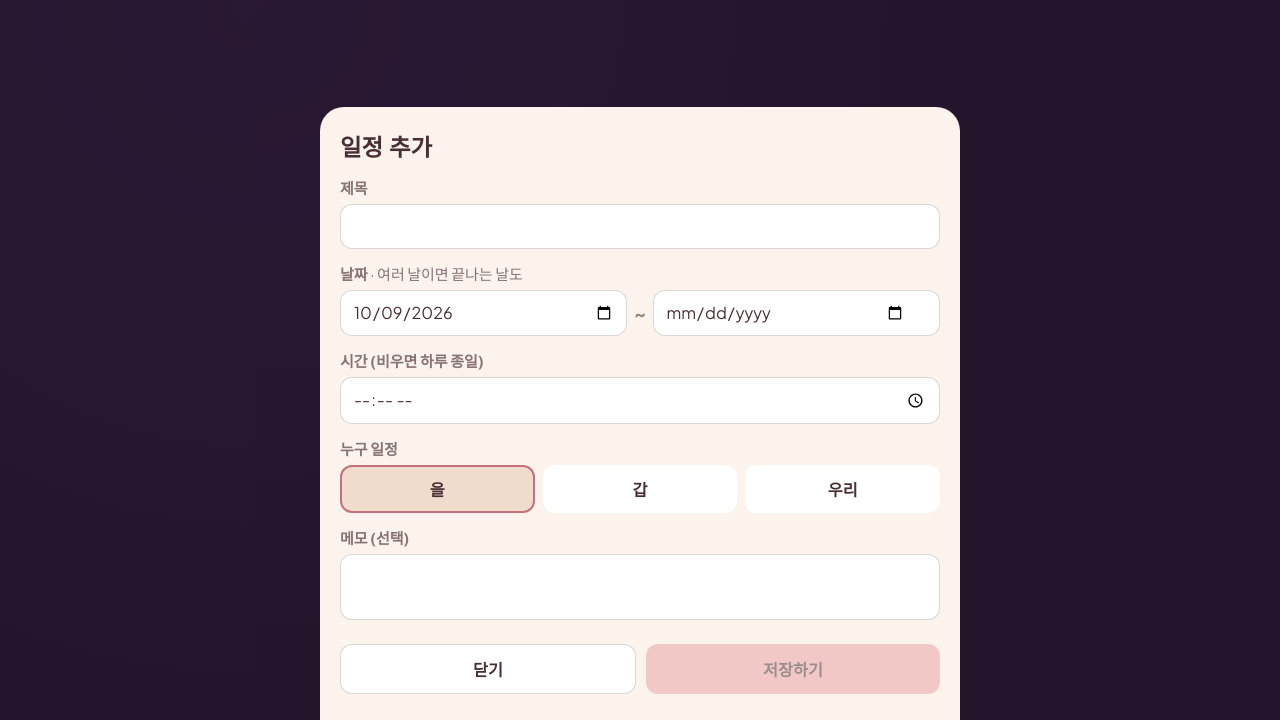
Test case: EventFormModal › stays open with the message and the typed text when saving fails
Type "약속" into the field labelled "제목". click: (640, 226)
box: 340,204 -> 940,249
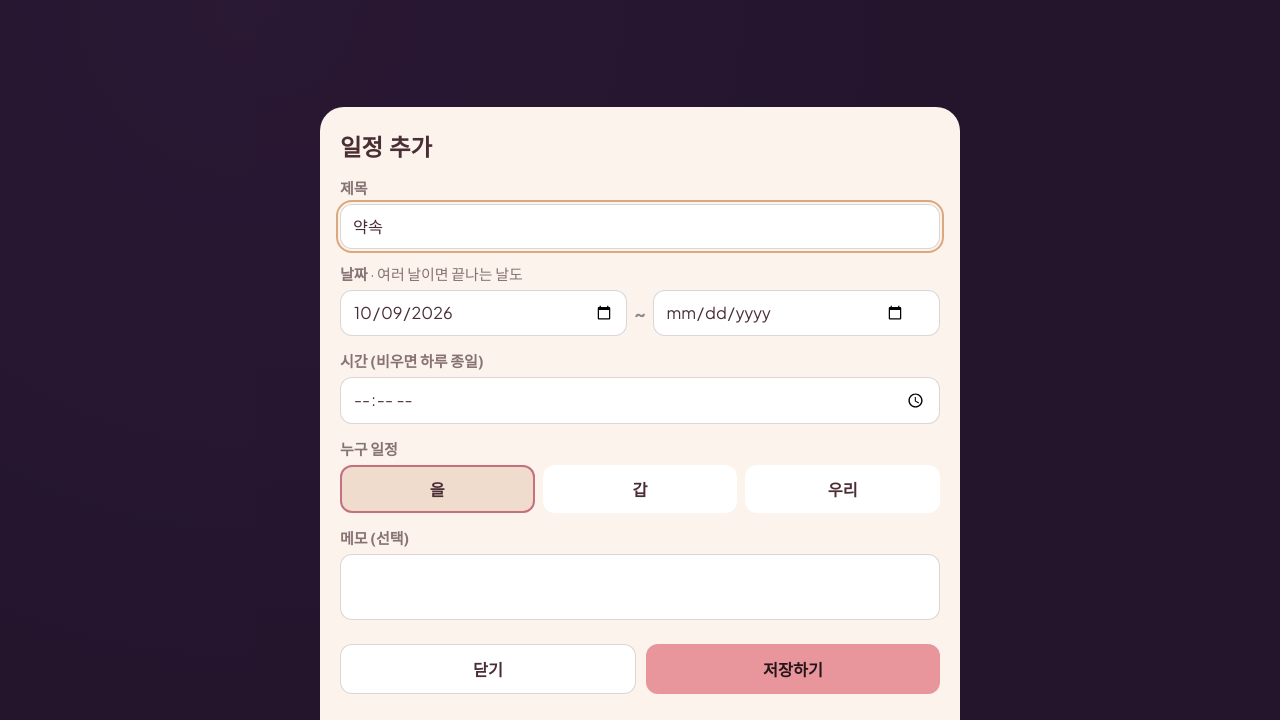
Click the button "저장하기". click: (793, 669)
box: 646,644 -> 940,694
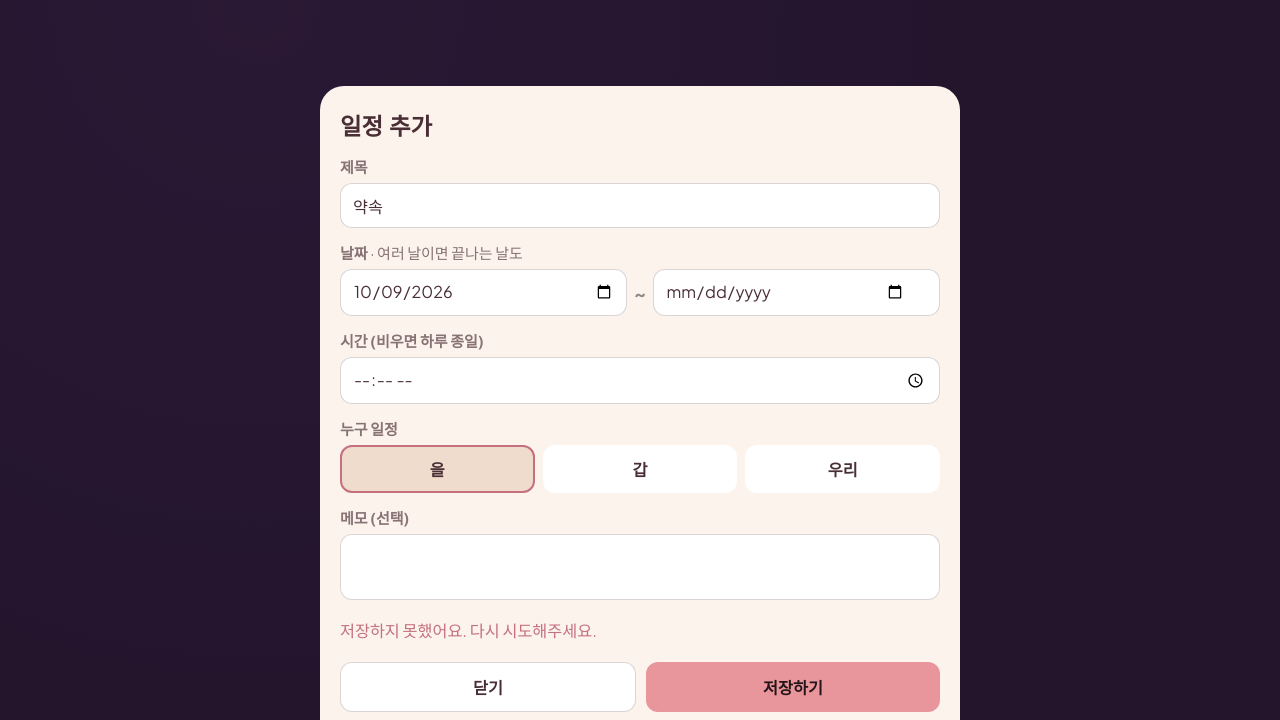
Check: the button "저장하기" is enabled, box 646,662 -> 940,712
Check: the text "저장하지 못했어요. 다시 시도해주세요." is shown, box 340,620 -> 597,641
